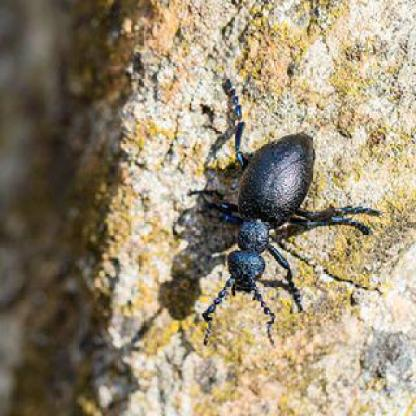beetle: (206, 92, 341, 316)
